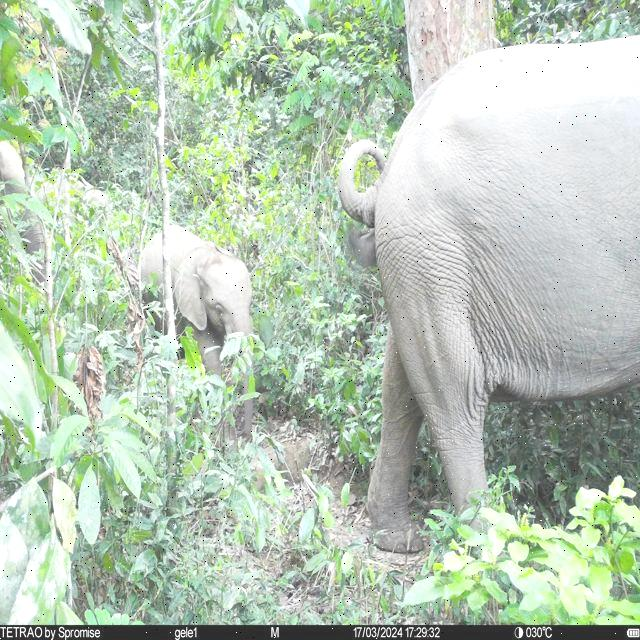calf: (138, 222, 255, 438)
ear: (174, 242, 218, 334)
elephant: (335, 31, 639, 554), (0, 140, 51, 284)
